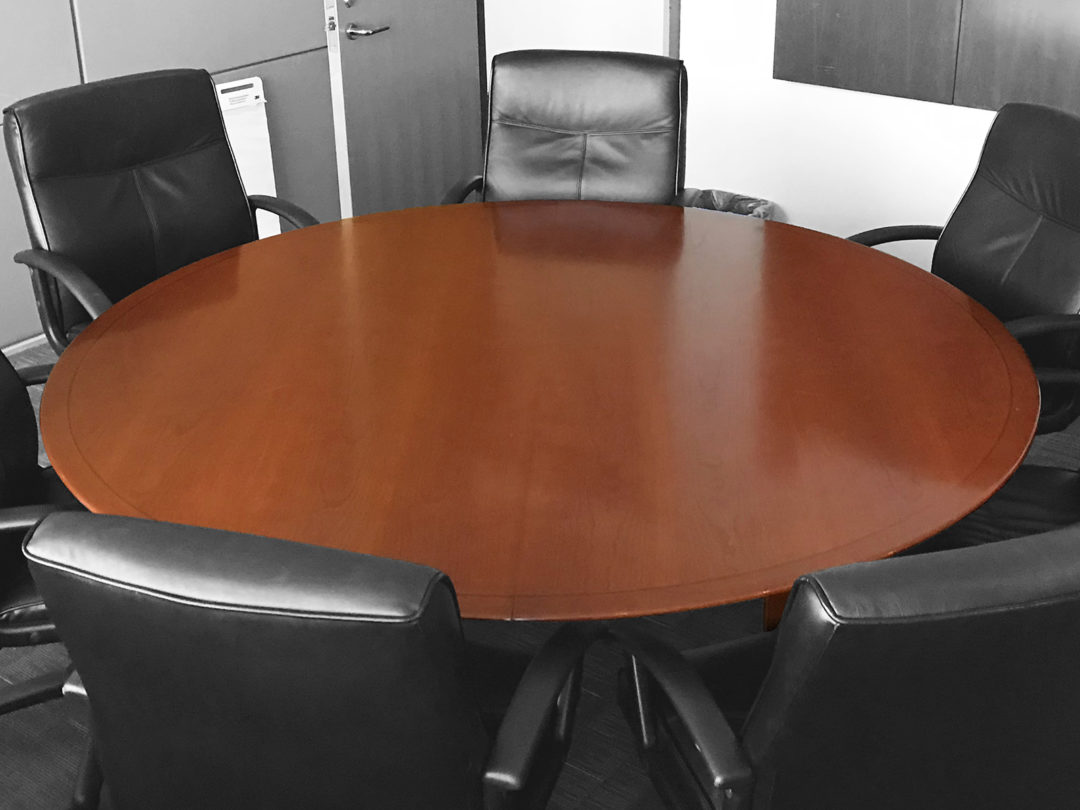conference_table: (38, 194, 1043, 622)
